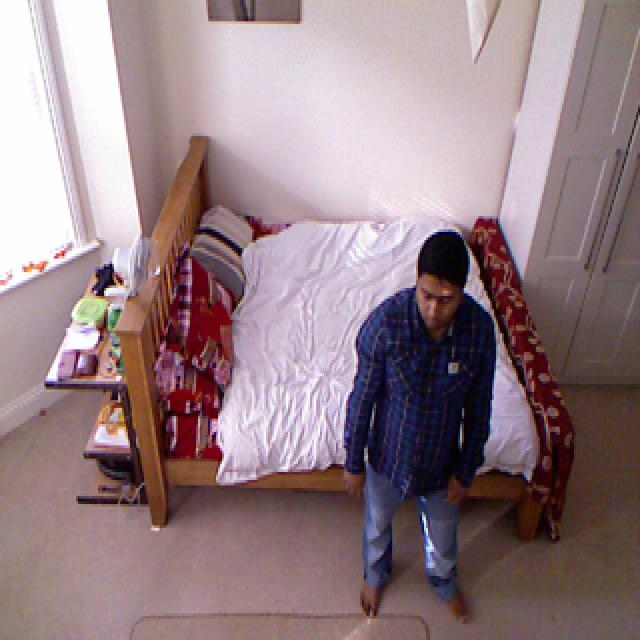standing: (345, 231, 503, 619)
